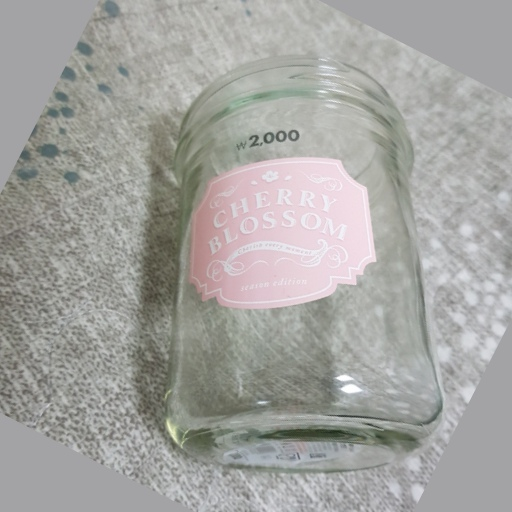Glass_5: (171, 59, 444, 473)
